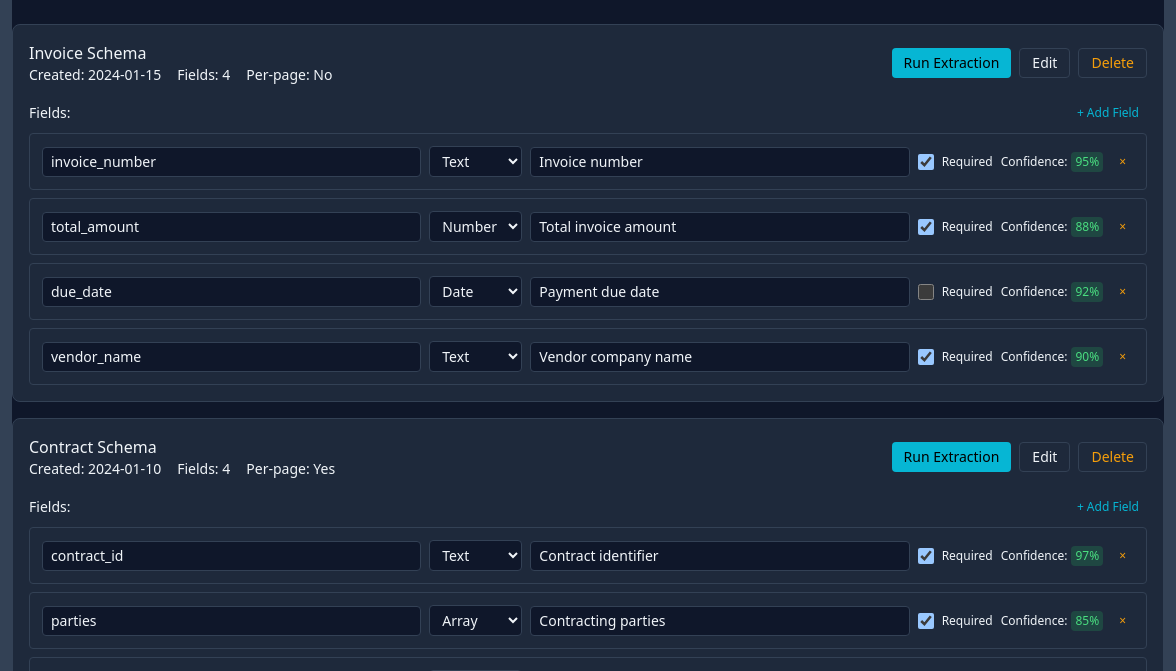
Test: SchemaEditor › can cancel edit schema form
# Open edit form
Click the button "Edit" in the row of "No" at (1045, 63), box [1019, 48, 1070, 78]
(page scrolled)
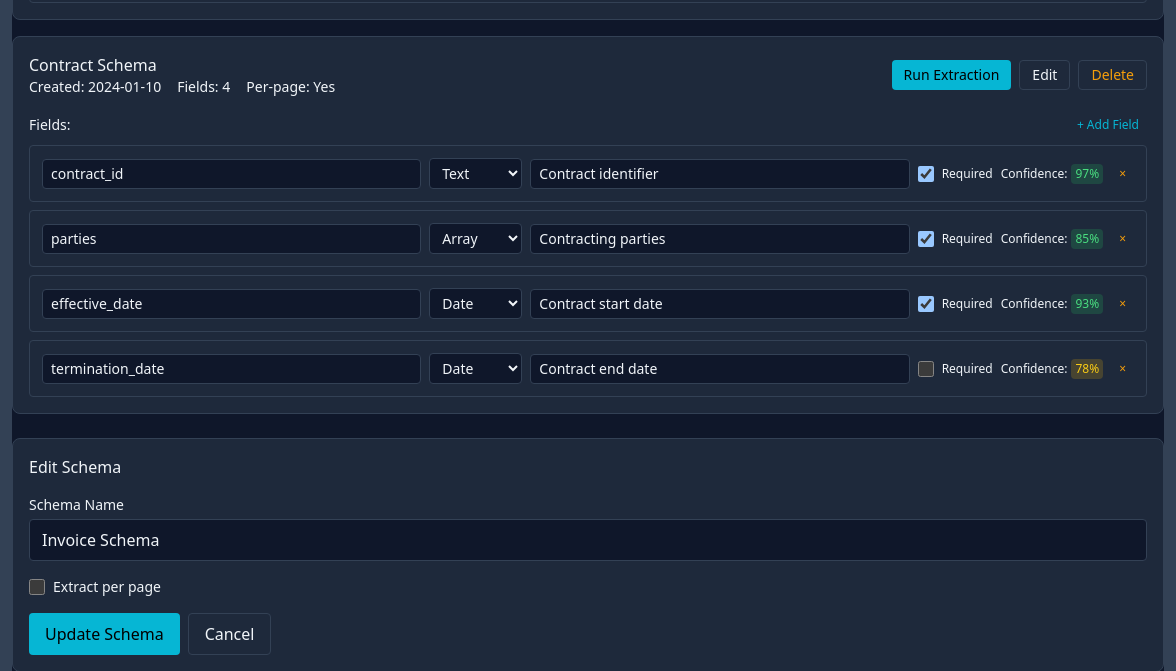
Check: the heading "Edit Schema" is shown, box [29, 456, 121, 478]
# Cancel form
Click the button "Cancel" at (230, 634), box [188, 613, 271, 655]
(page scrolled)
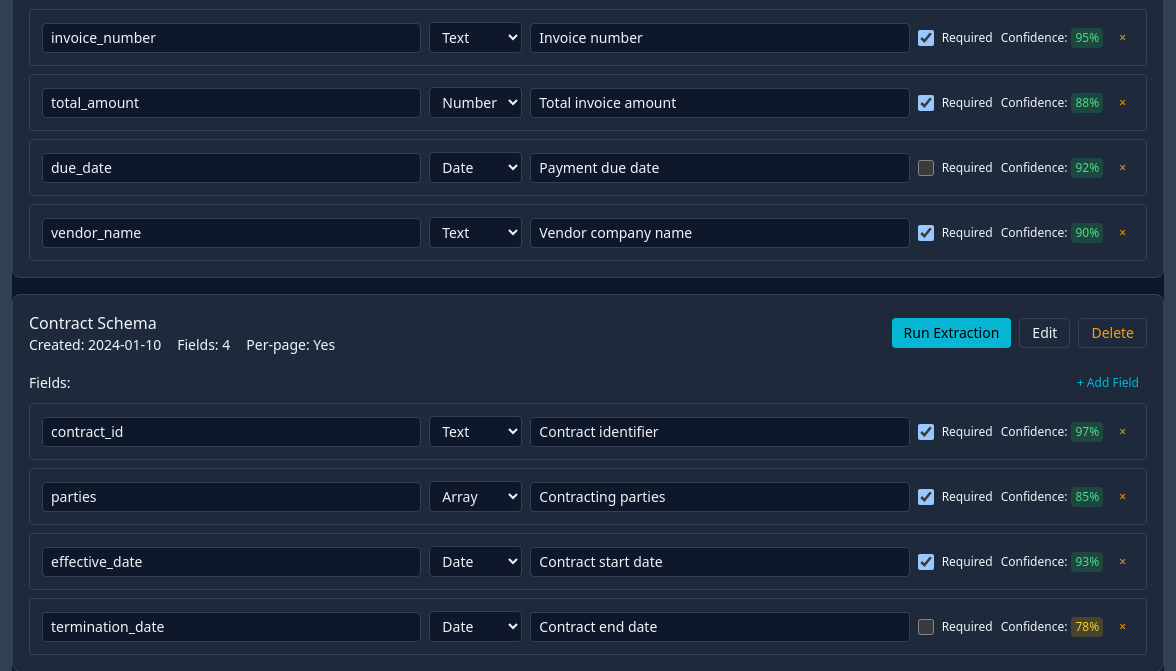
Check: the heading "Edit Schema" is gone
